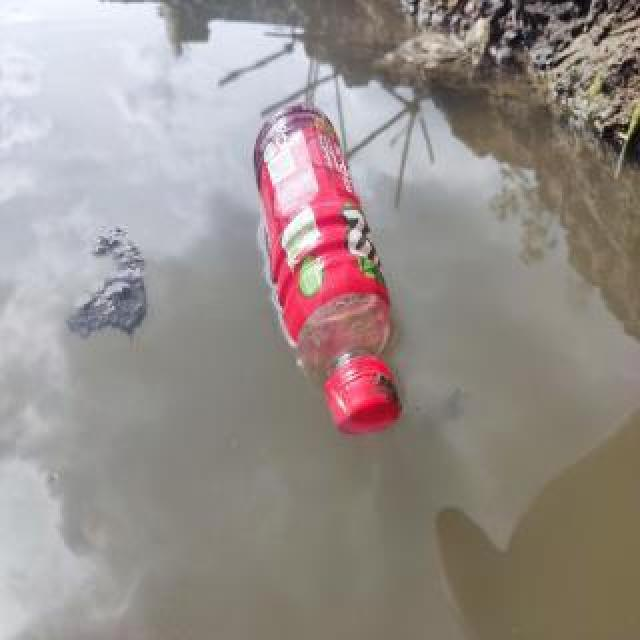bottle: (248, 95, 410, 447)
